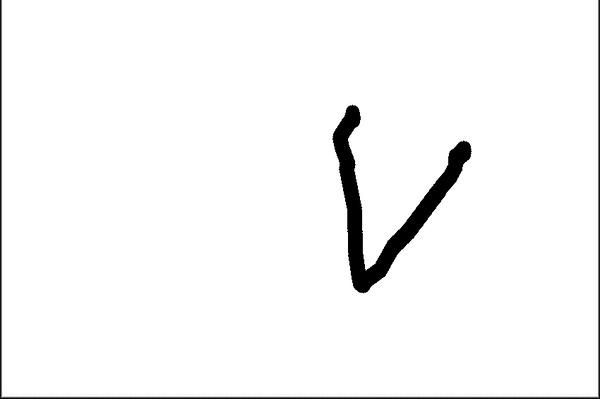V: (326, 96, 476, 299)
